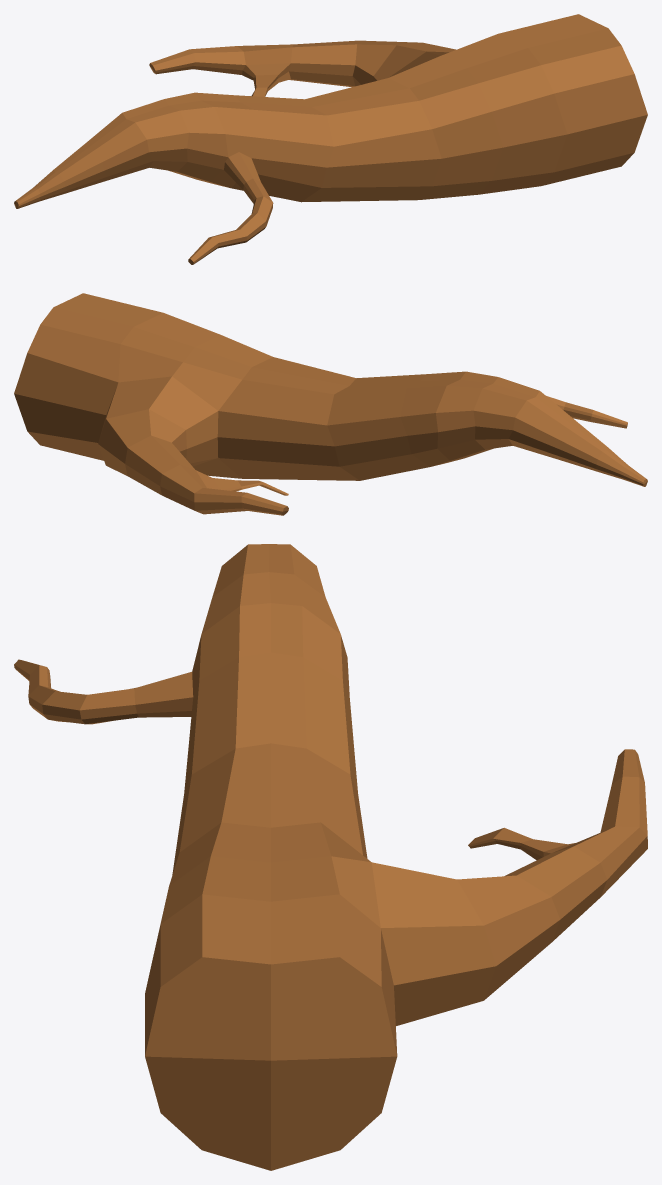
Rendered from raiz2.fbx.
3 views of the same model, one above another, from view 1: azimuth 30°, elevation 25°; view 2: azimuth 150°, elevation 25°; view 3: azimuth 270°, elevation 25° (orthographic). The views are drawn at different scales.
Visible parts, largest first — view 1: Cube.003; view 2: Cube.003; view 3: Cube.003.
Part boxes in pixels (bbox=[...]): Cube.003: bbox=[14, 14, 647, 264]; Cube.003: bbox=[14, 293, 647, 515]; Cube.003: bbox=[14, 544, 647, 1170].
Size of the model in its own units: 1147 by 293 by 658.
Materials: 1 (1 with a texture image).
